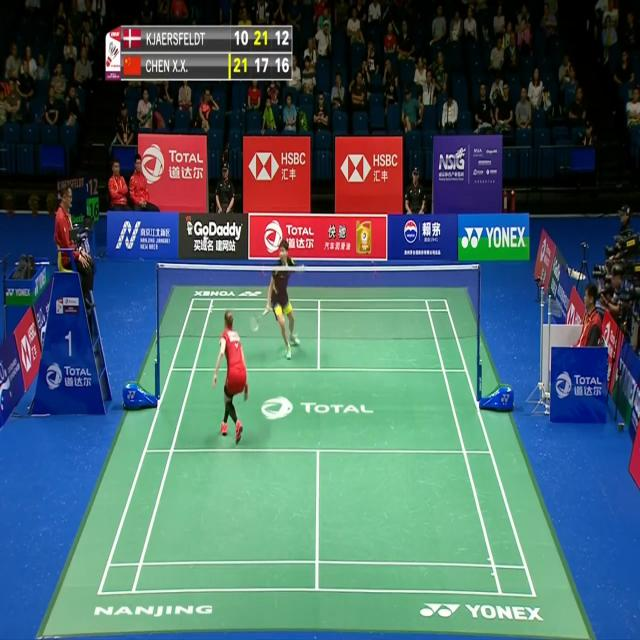Player1: (210, 308, 252, 442)
Player2: (259, 230, 305, 366)
